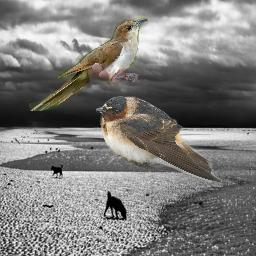Cuckoo: (29, 17, 148, 111)
Swallow: (96, 96, 222, 183)
